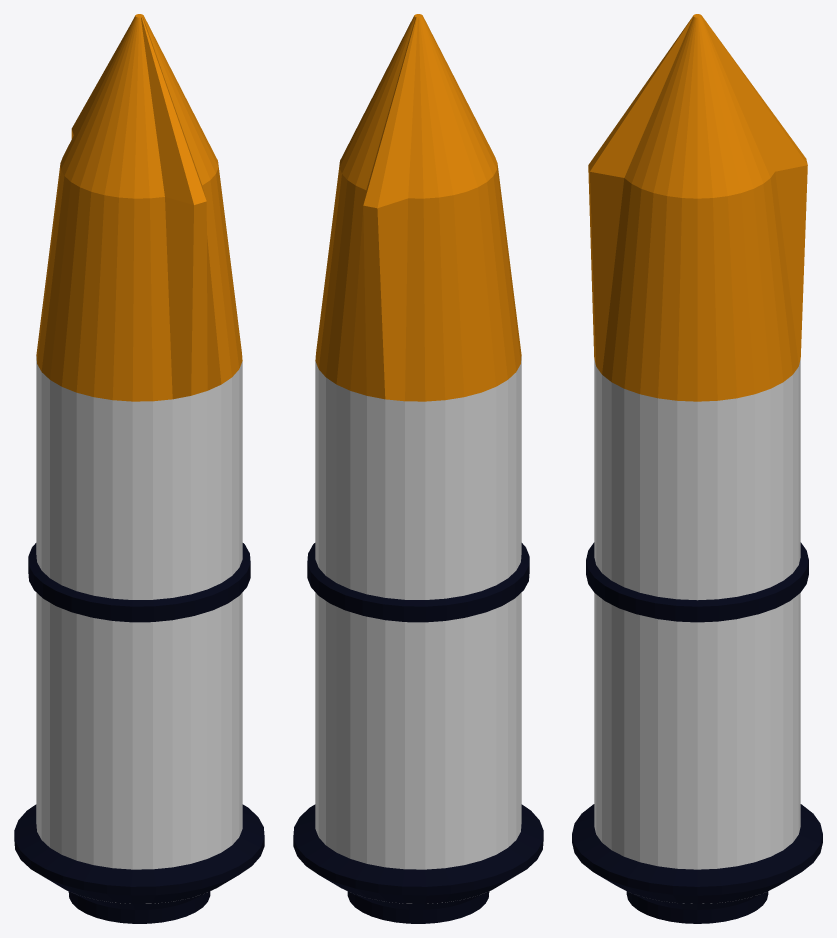
Rendered from HighExplosiveProjectile.fbx.
3 views of the same model, side by side, from view 1: azimuth 30°, elevation 25°; view 2: azimuth 150°, elevation 25°; view 3: azimuth 270°, elevation 25° (orthographic).
Parts seen in each view (by area): view 1: ProjectileHE; view 2: ProjectileHE; view 3: ProjectileHE.
Part boxes in pixels (box(x1,y1,x2,y2)): ProjectileHE: box(14, 14, 264, 923); ProjectileHE: box(293, 14, 543, 923); ProjectileHE: box(572, 14, 822, 923).
Size of the model in its own units: 81.89 by 316 by 81.89.
